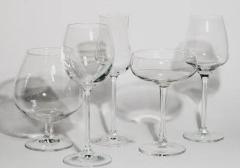glass: (13, 12, 229, 168)
